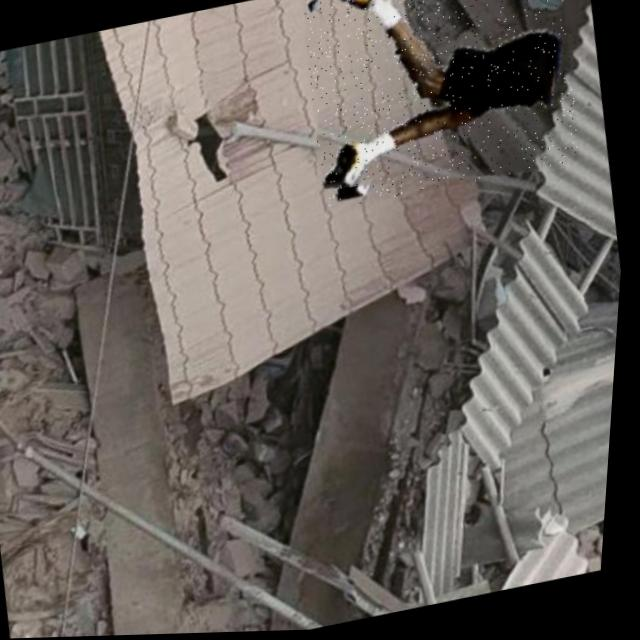Person in Rubble: (287, 0, 591, 214)
